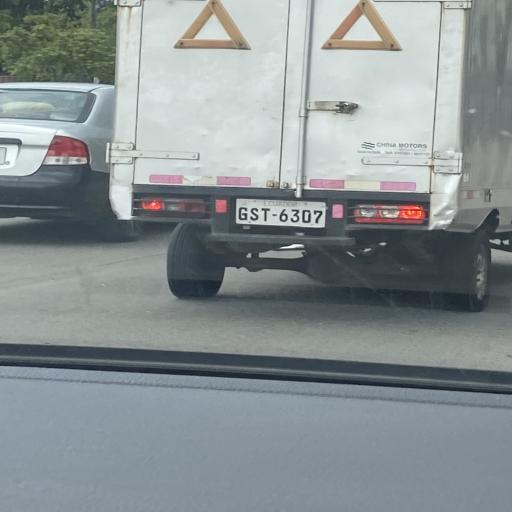license_plate: (301, 208, 312, 225), (238, 206, 249, 222), (249, 206, 260, 222), (278, 208, 289, 224), (313, 209, 324, 225), (261, 206, 271, 223), (289, 209, 301, 223)
